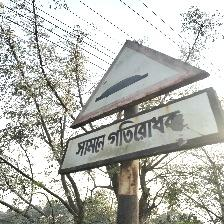Speed-breaker: (62, 39, 222, 174)
